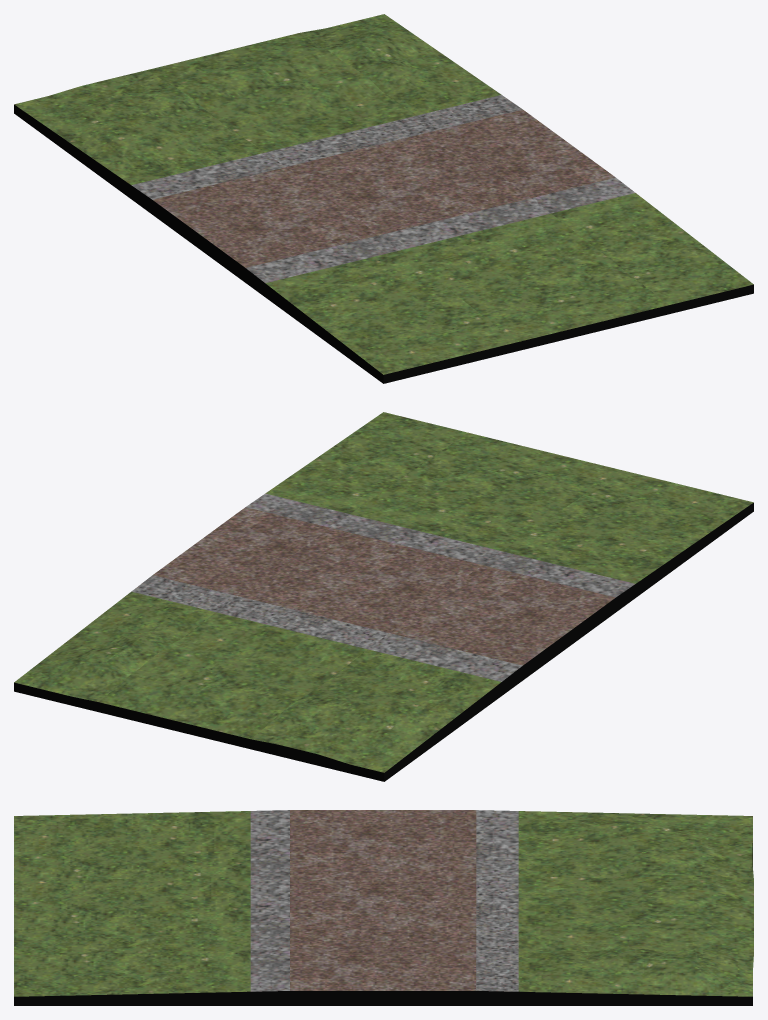
Rendered from FloorEarlyTex.glb.
3 views of the same model, one above another, from view 1: azimuth 30°, elevation 25°; view 2: azimuth 150°, elevation 25°; view 3: azimuth 270°, elevation 25° (orthographic).
Visible parts, largest first — view 1: Cube; view 2: Cube; view 3: Cube.
Boxes of the visible parts, x1,y1,x2,y2 form: Cube: (14,14,753,383); Cube: (14,412,753,781); Cube: (14,810,753,1005).
Bounding box in the file's own units: 85.61 × 4.11 × 148.
Materials: 1 (1 with a texture image).
